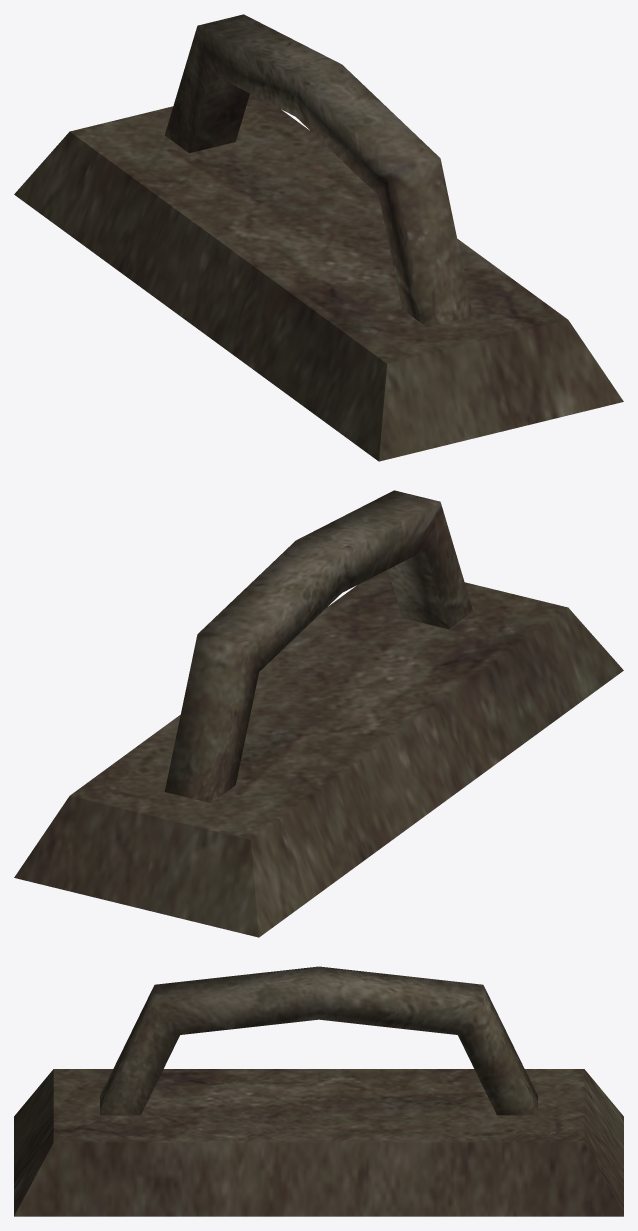
File: TI_DoorHandle_01.fbx
3 views of the same model, one above another, from view 1: azimuth 30°, elevation 25°; view 2: azimuth 150°, elevation 25°; view 3: azimuth 270°, elevation 25° (orthographic). The views are drawn at different scales.
Parts seen in each view (by area): view 1: TI_DoorHandle_01; view 2: TI_DoorHandle_01; view 3: TI_DoorHandle_01.
Part boxes in pixels (x1,y1,x2,y2): TI_DoorHandle_01: (14, 14, 623, 461); TI_DoorHandle_01: (14, 490, 623, 937); TI_DoorHandle_01: (14, 966, 623, 1216).
Size of the model in its own units: 0.1372 by 0.122 by 0.354.
